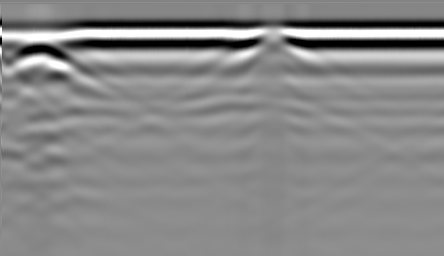pipe: (250, 30, 296, 52)
steel: (10, 42, 69, 85)
